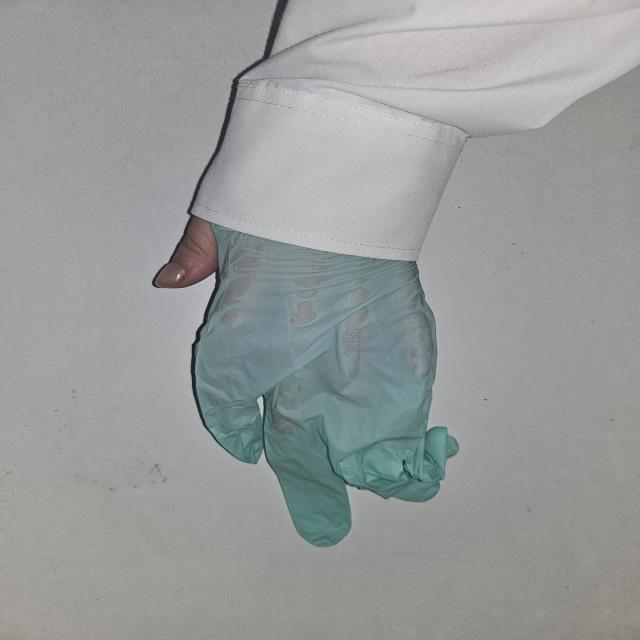glove_partial: (152, 213, 460, 548)
